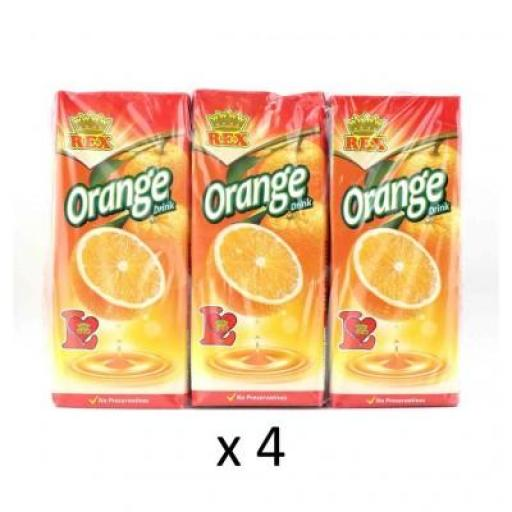drink carton: (54, 83, 190, 409), (195, 86, 328, 409), (332, 90, 460, 410)
